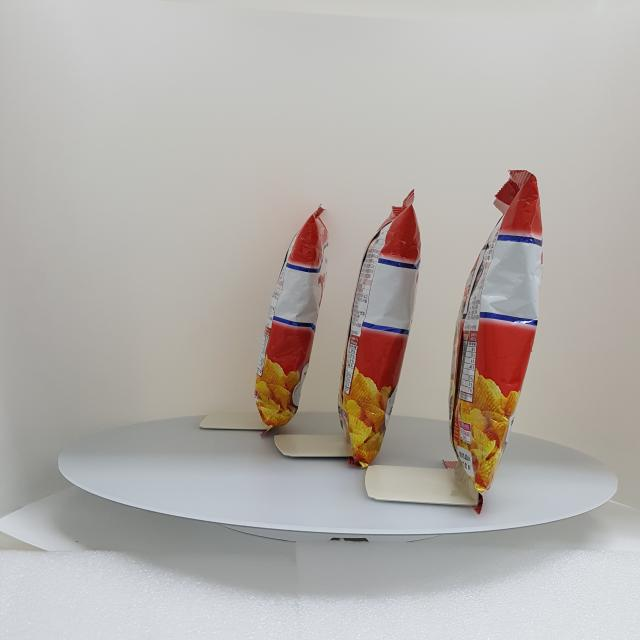-72G: (444, 171, 544, 516), (339, 190, 422, 469), (255, 205, 329, 437)
